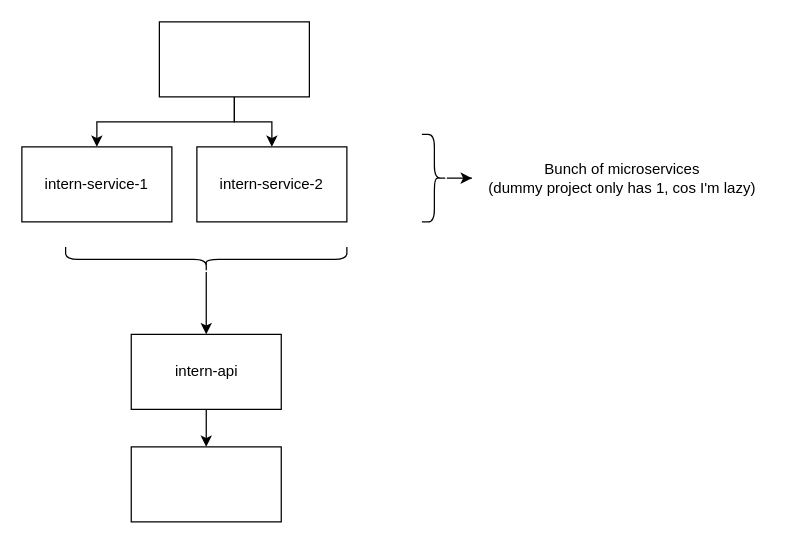
Image size: 794x544. Some labels were removed from this diagram. The shapes that lost their labels are listed below. From the top down, each one's centre as x and y in pixels, then its label:
point 233,59: intern-onboarding-fe
point 205,484: intern-db
